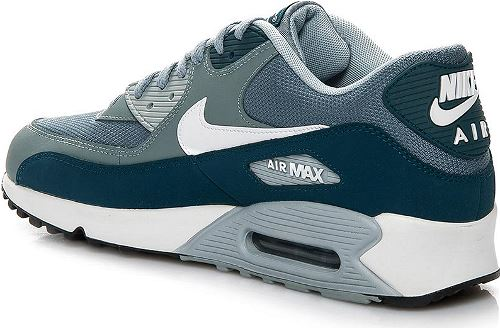nike: (177, 95, 330, 155)
